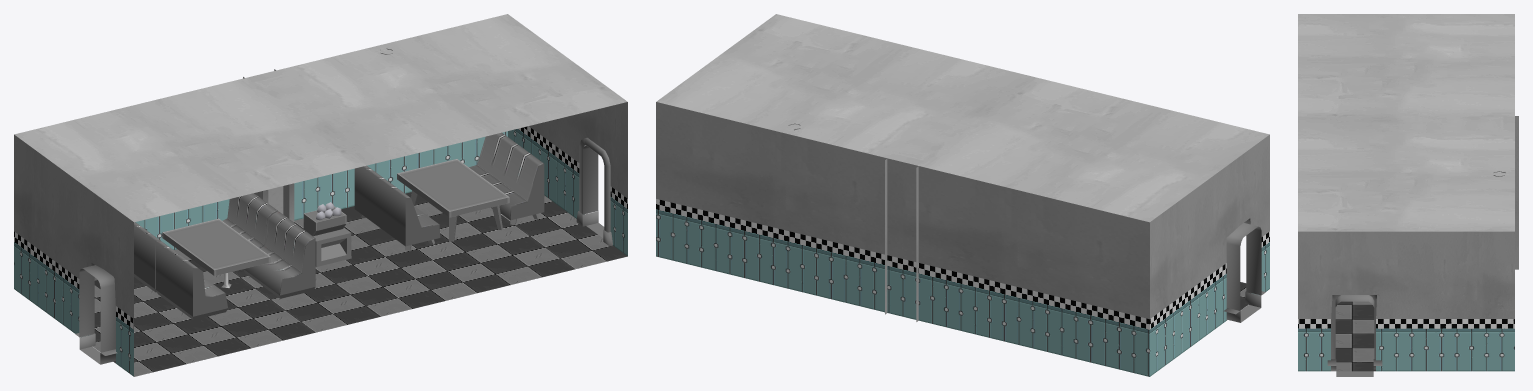
File: MHS_Cafeteria_L1_R2_optimized.fbx
3 views of the same model, side by side, from view 1: azimuth 30°, elevation 25°; view 2: azimuth 150°, elevation 25°; view 3: azimuth 270°, elevation 25° (orthographic). The views are drawn at different scales.
Visible parts, largest first — view 1: lightmap1, lightmap-1; view 2: lightmap1, lightmap-1; view 3: lightmap1, lightmap-1.
Boxes of the visible parts, <box> form: lightmap1: <box>14,14,627,376</box>; lightmap-1: <box>79,145,600,364</box>; lightmap1: <box>656,14,1269,376</box>; lightmap-1: <box>1226,223,1261,322</box>; lightmap1: <box>1298,14,1518,376</box>; lightmap-1: <box>1335,295,1374,376</box>.
Bounding box in the file's own units: 20.61 × 5.92 × 8.41.
